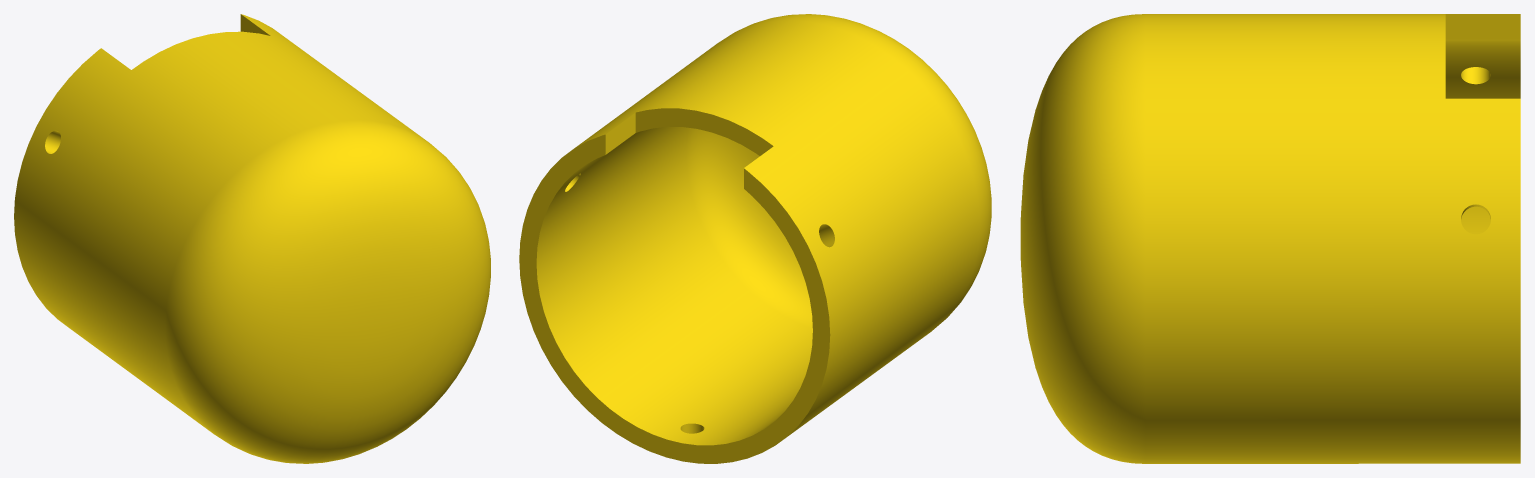
3 renders of one model, left to right at view 1: azimuth 30°, elevation 25°; view 2: azimuth 150°, elevation 25°; view 3: azimuth 270°, elevation 25°, orthographic. The views are drawn at different scales.
Visible parts, largest first — view 1: mesh56824, mesh56825; view 2: mesh56825, mesh56833, mesh56826, mesh56834, mesh56824, mesh56827, mesh56829; view 3: mesh56825, mesh56824, mesh56833, mesh56828.
Part boxes in pixels (bbox=[...]): mesh56824: bbox=[165, 120, 490, 463]; mesh56825: bbox=[14, 14, 427, 432]; mesh56825: bbox=[575, 20, 979, 438]; mesh56833: bbox=[536, 126, 812, 445]; mesh56826: bbox=[519, 134, 830, 463]; mesh56834: bbox=[686, 128, 812, 328]; mesh56824: bbox=[731, 14, 991, 321]; mesh56827: bbox=[635, 108, 773, 155]; mesh56829: bbox=[605, 113, 635, 154]; mesh56825: bbox=[1145, 14, 1520, 463]; mesh56824: bbox=[1020, 14, 1145, 463]; mesh56833: bbox=[1445, 39, 1520, 234]; mesh56828: bbox=[1445, 14, 1520, 39].
Bounding box in the file's own units: 0.0457 × 0.0457 × 0.0508.
